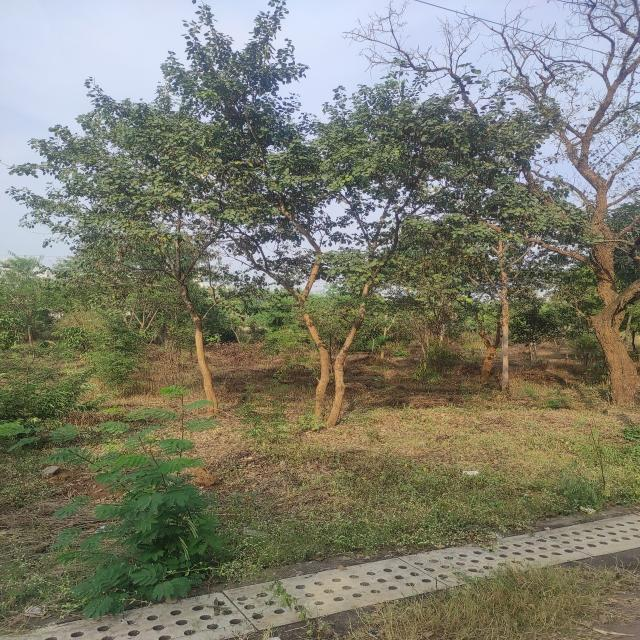Devakanchan tree: (62, 33, 552, 413)
